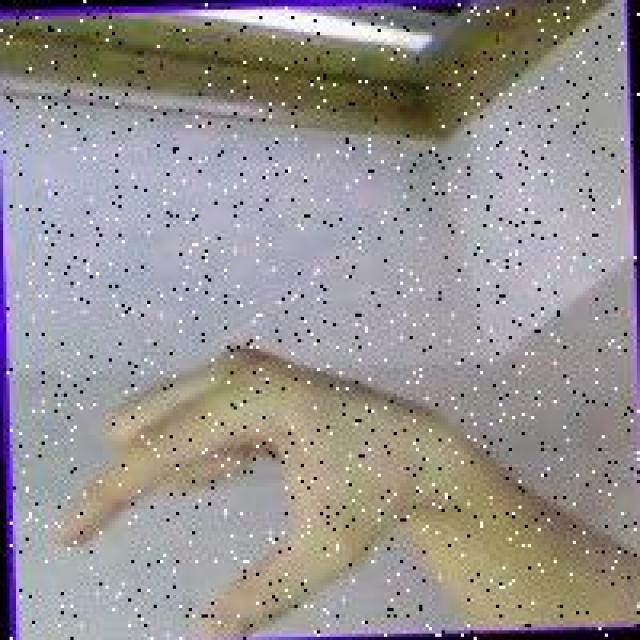Q: (42, 326, 448, 640)
